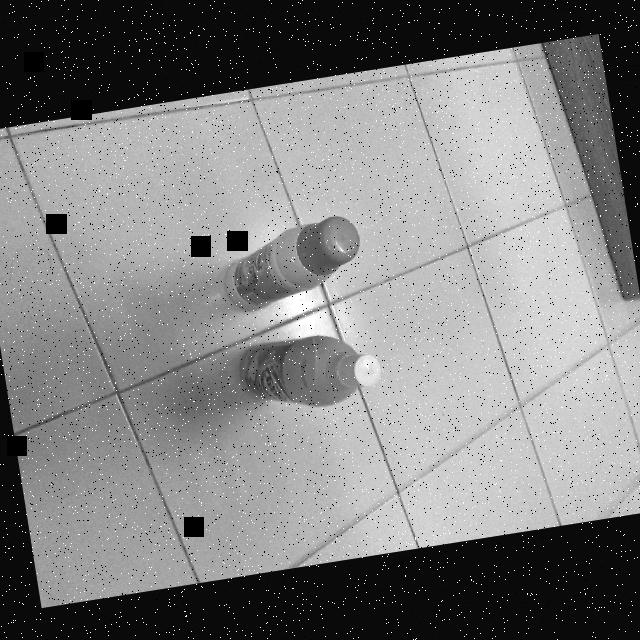chemical_plastic_bottle: (231, 318, 388, 422)
